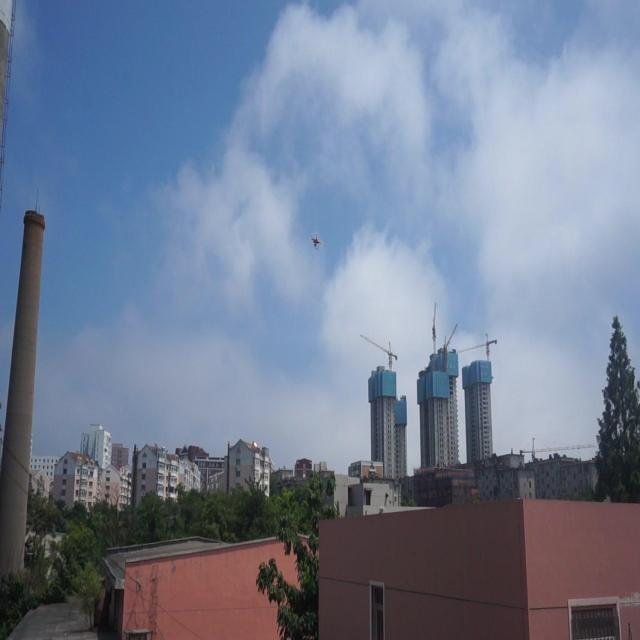drone: (308, 232, 322, 250)
